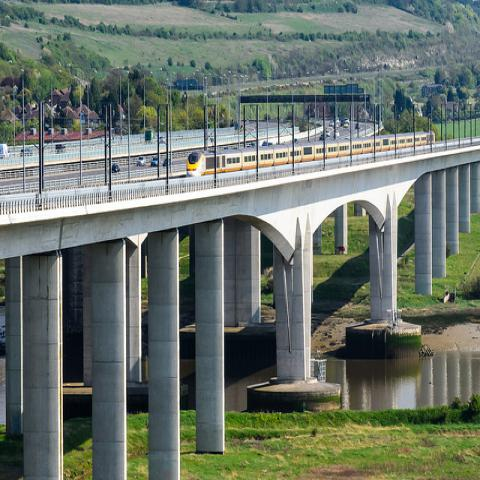car: (159, 116, 349, 142), (20, 148, 33, 157), (136, 156, 146, 167), (55, 143, 66, 150), (162, 158, 170, 167), (112, 164, 120, 173), (150, 158, 157, 167), (319, 134, 327, 141), (332, 122, 338, 129), (355, 123, 361, 129), (261, 140, 267, 146), (336, 130, 340, 138), (268, 142, 274, 145)
